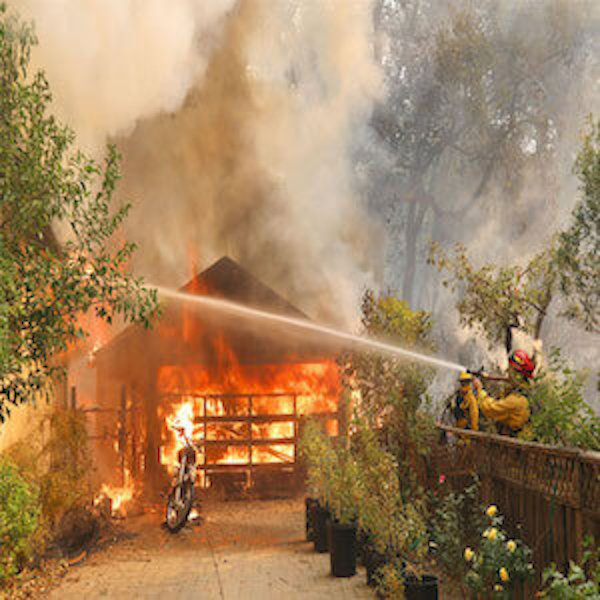fire: (208, 359, 339, 410), (209, 419, 296, 463), (161, 367, 200, 442)
